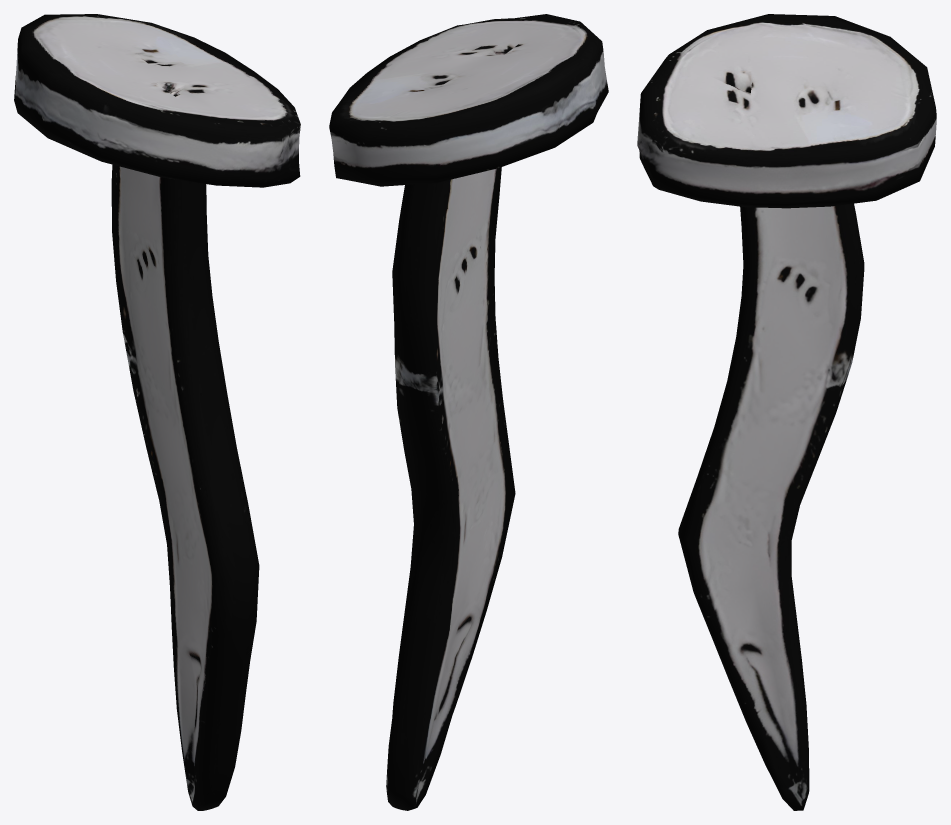
The model's file is Nail.fbx.
The picture shows the model from 3 angles, left to right: view 1: azimuth 30°, elevation 25°; view 2: azimuth 150°, elevation 25°; view 3: azimuth 270°, elevation 25°; orthographic projection. The views are drawn at different scales.
Parts seen in each view (by area): view 1: tripo_node_66910803; view 2: tripo_node_66910803; view 3: tripo_node_66910803.
Part boxes in pixels (x1,y1,x2,y2): tripo_node_66910803: (14, 14, 300, 810); tripo_node_66910803: (329, 14, 608, 810); tripo_node_66910803: (637, 14, 936, 810).
Size of the model in its own units: 29.46 by 99.63 by 37.56.
Materials: 1 (1 with a texture image).
